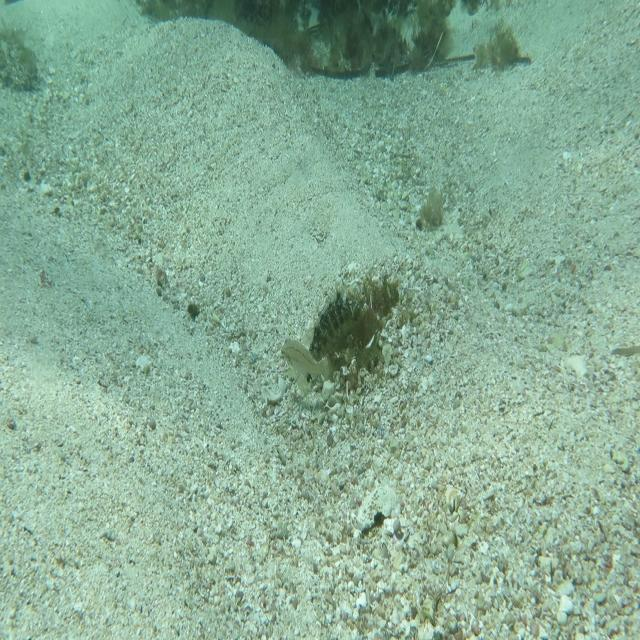BEND: (299, 276, 366, 399)
female: (272, 333, 341, 380)
nest: (305, 262, 400, 396)
vegetation: (255, 0, 524, 71), (416, 182, 450, 237)
